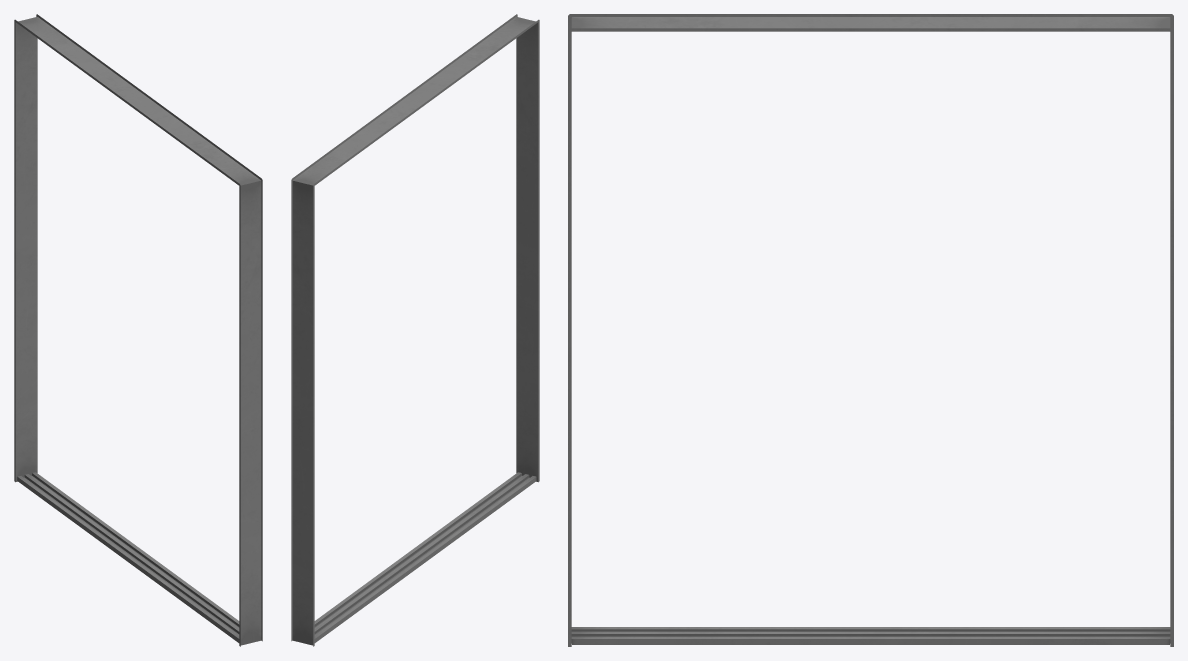
Rendered from SM_DoorFrame_Sliding.fbx.
3 renders of one model, left to right at view 1: azimuth 30°, elevation 25°; view 2: azimuth 150°, elevation 25°; view 3: azimuth 270°, elevation 25°, orthographic. The views are drawn at different scales.
Visible parts, largest first — view 1: SM_DoorFrame_Sliding_LOD0; view 2: SM_DoorFrame_Sliding_LOD0; view 3: SM_DoorFrame_Sliding_LOD0.
Boxes of the visible parts, x1,y1,x2,y2 form: SM_DoorFrame_Sliding_LOD0: [14, 14, 262, 646]; SM_DoorFrame_Sliding_LOD0: [291, 14, 539, 646]; SM_DoorFrame_Sliding_LOD0: [568, 14, 1173, 646].
Size of the model in its own units: 9 by 160 by 180.
